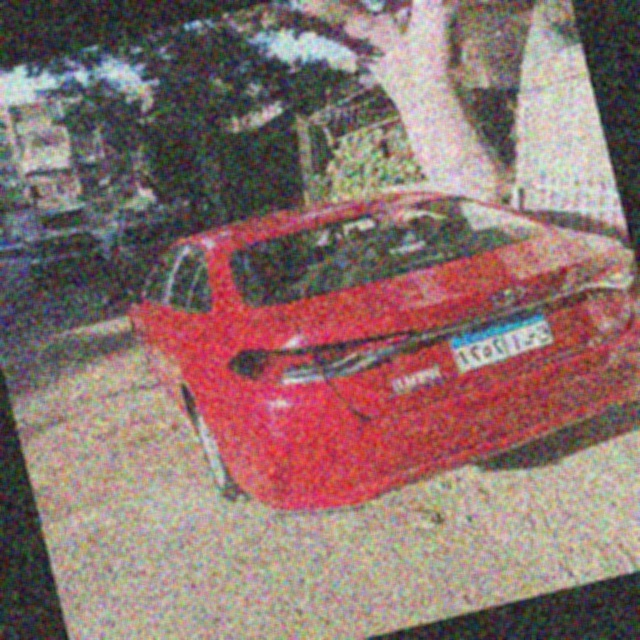License Plate: (444, 304, 559, 377)
